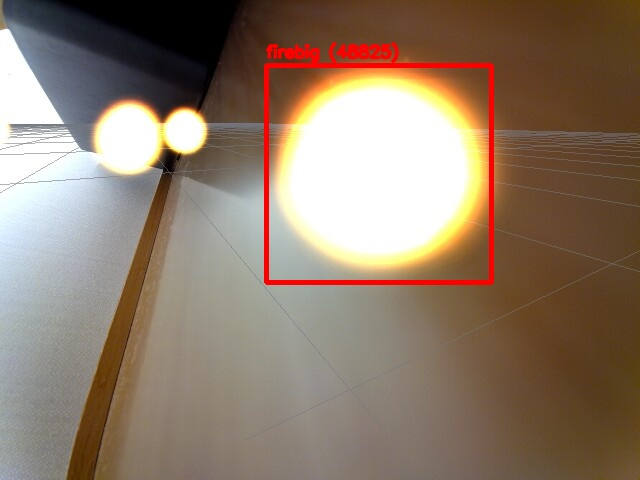firebig: (266, 65, 491, 282)
